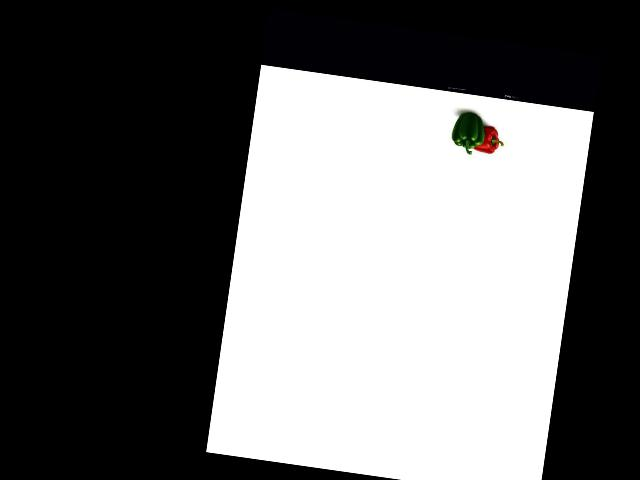bell_pepper: (471, 125, 505, 158)
